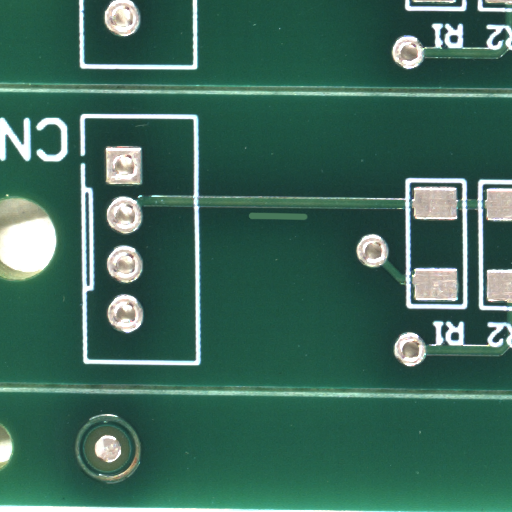Spurious_copper: (278, 216, 342, 227)
